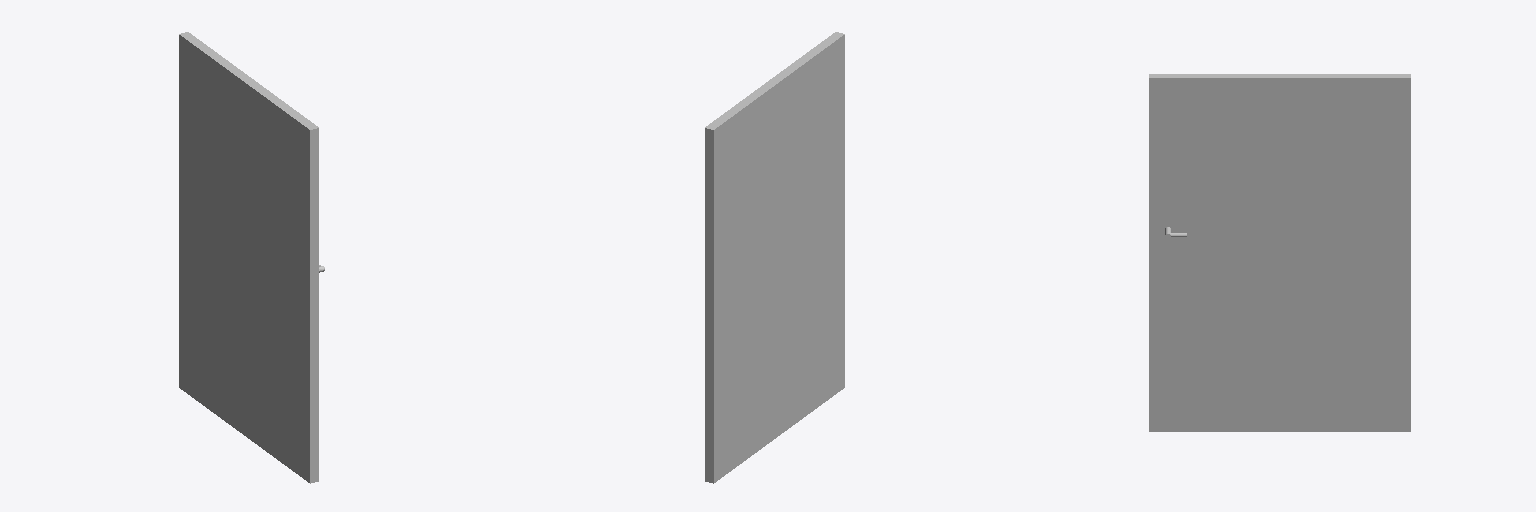
The model's file is door.obj.
3 renders of one model, left to right at view 1: azimuth 30°, elevation 25°; view 2: azimuth 150°, elevation 25°; view 3: azimuth 270°, elevation 25°, orthographic.
Visible parts, largest first — view 1: Box009; view 2: Box009; view 3: Box009.
Boxes of the visible parts, box(x1,y1,x2,y2) form: Box009: box(179, 32, 318, 483); Box009: box(705, 32, 844, 483); Box009: box(1149, 74, 1410, 431).
Bounding box in the file's own units: 2.46 × 35.82 × 24.11.